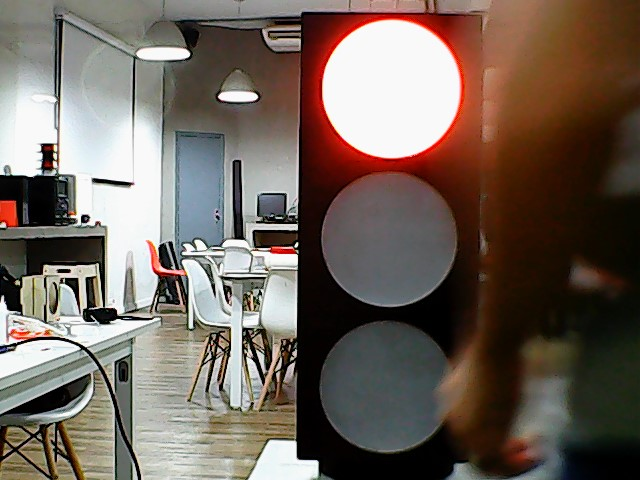vermelho: (296, 8, 485, 479)
